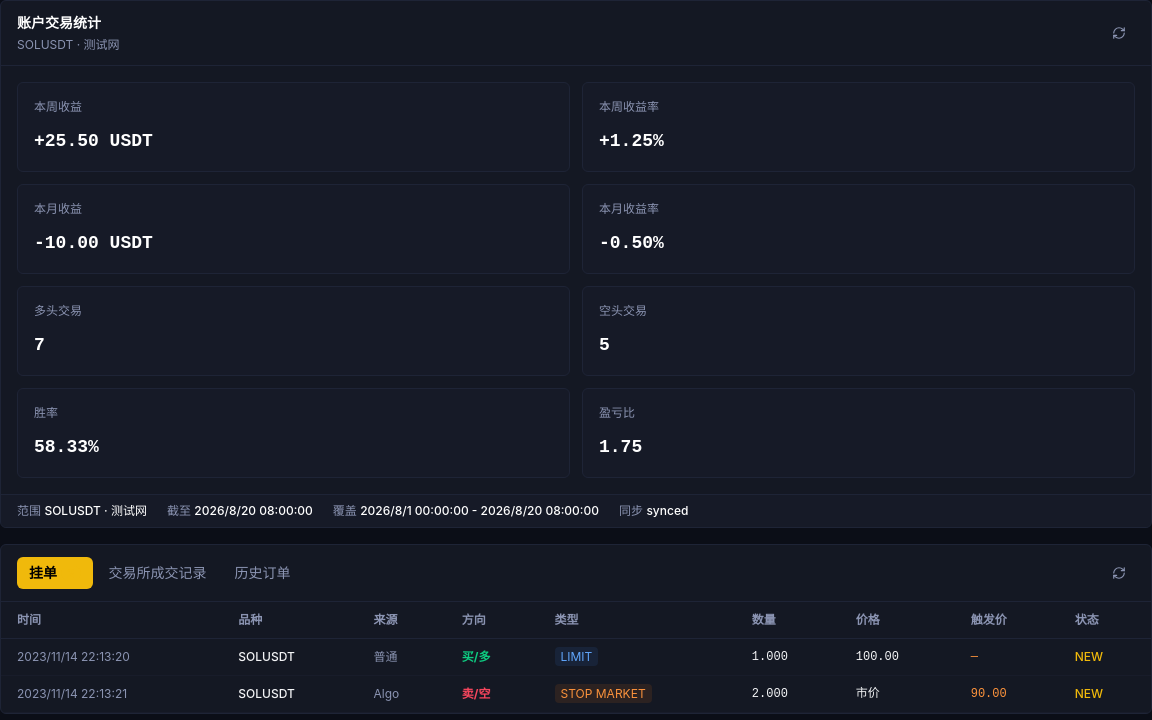
Orders › keeps history and trade tabs working with independent requests
The image size is (1152, 720).
Expected: the text "Algo" is shown, [358,676,446,712]
Step 1. Click the tab "交易所成交记录" → [158, 573], box [97,557,219,589]
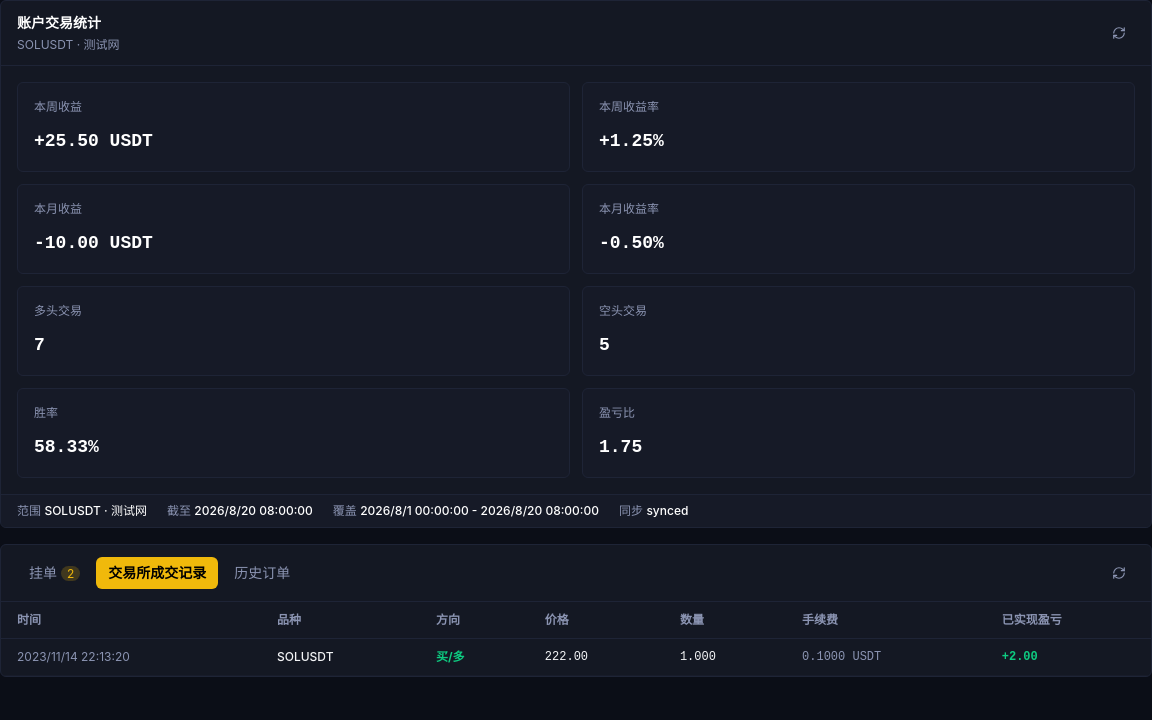
Now the text "222.00" is shown, box [529,638,664,676]
Step 2. Click the tab "历史订单" → [262, 573], box [222,557,302,589]
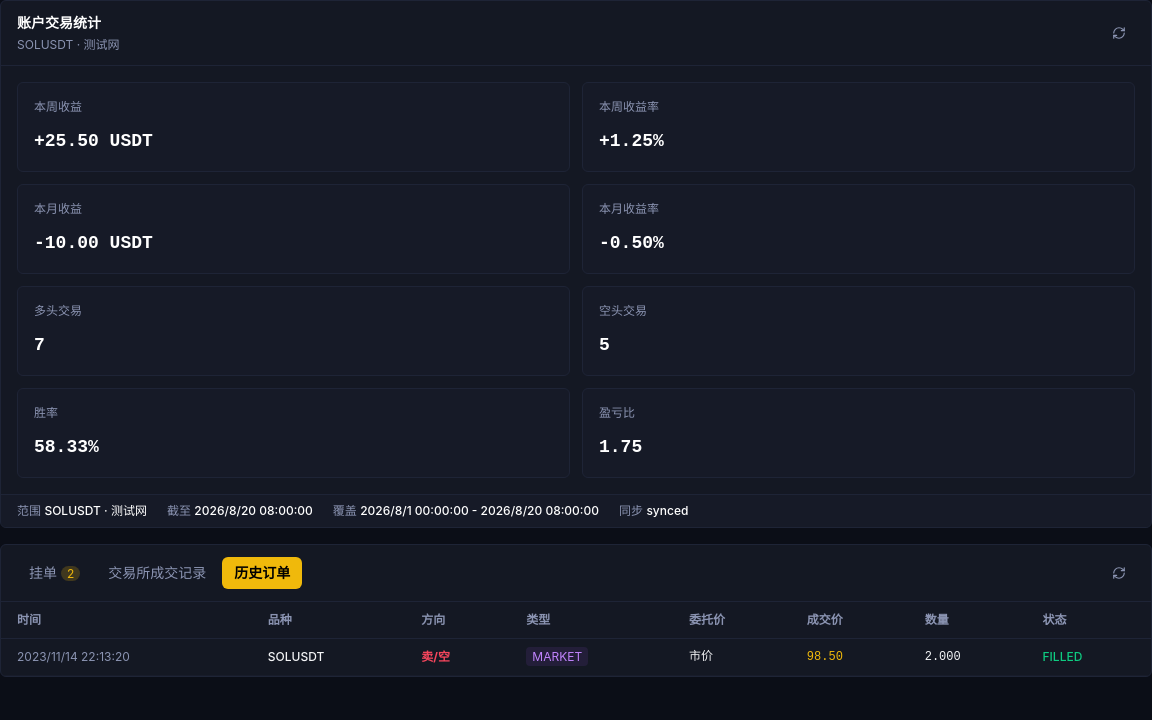
Now the text "98.50" is shown, box [791,638,909,676]
